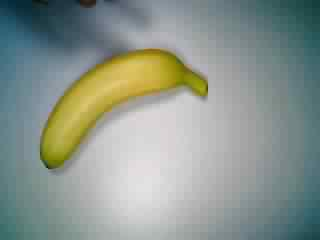banana: (36, 45, 213, 172)
